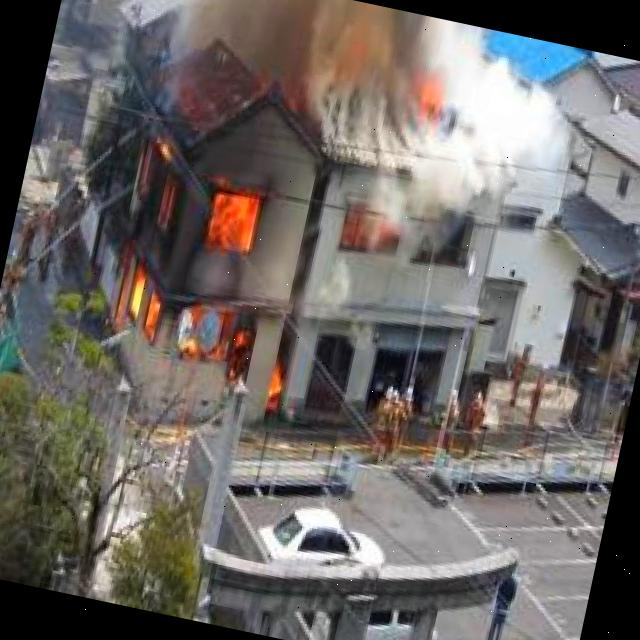fire: (70, 120, 350, 413)
